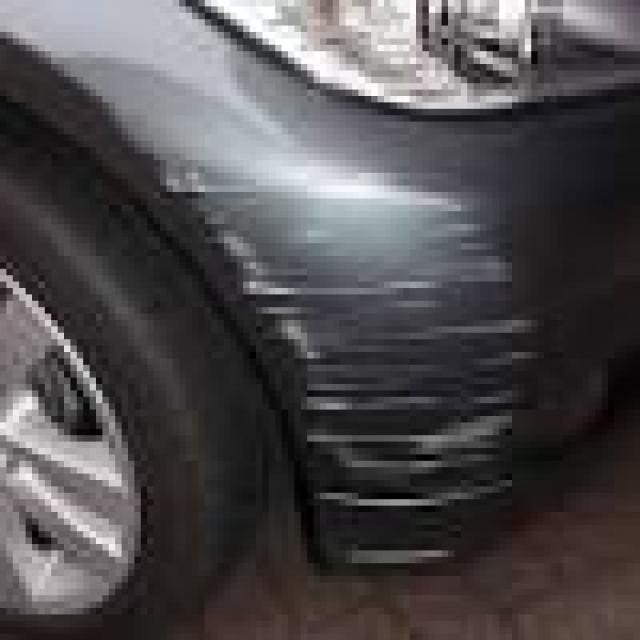minor: (171, 96, 640, 596)
